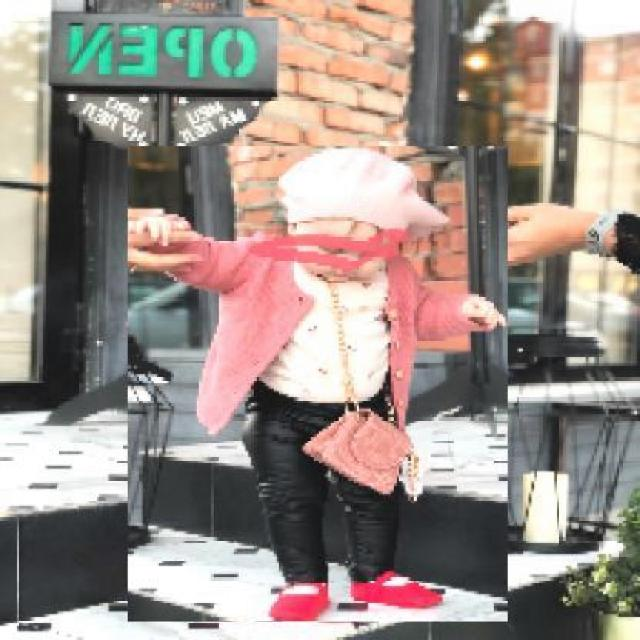child: (126, 146, 508, 623)
